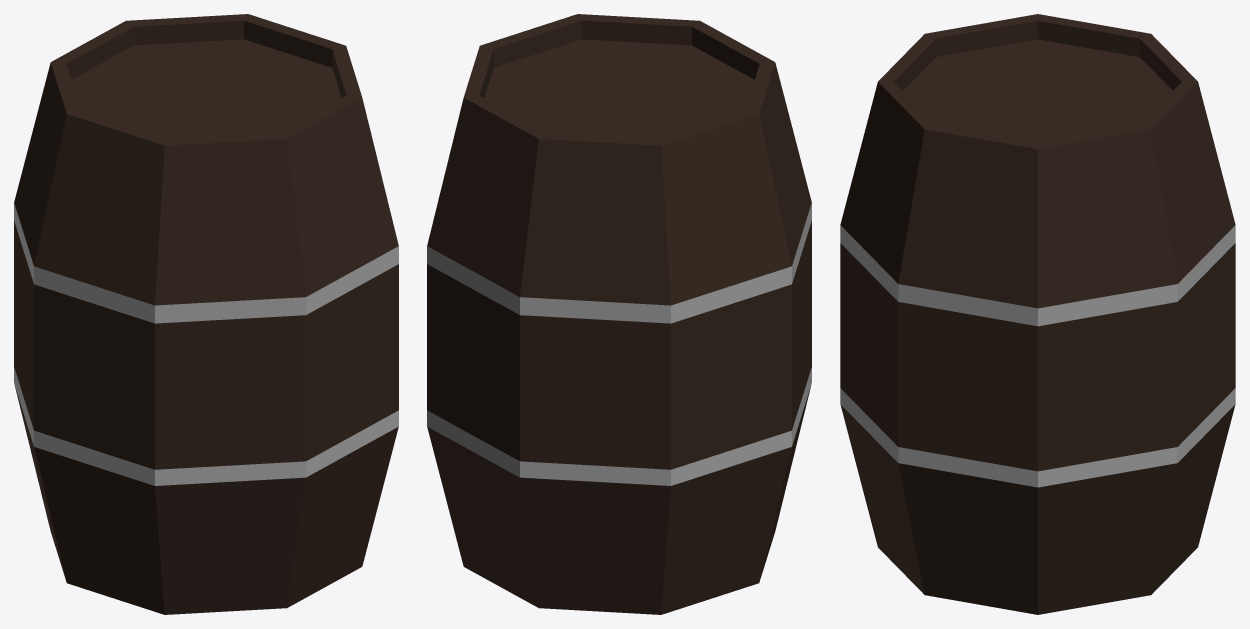
File: island_barrel.fbx
3 views of the same model, side by side, from view 1: azimuth 30°, elevation 25°; view 2: azimuth 150°, elevation 25°; view 3: azimuth 270°, elevation 25° (orthographic).
Visible parts, largest first — view 1: Cylinder.007; view 2: Cylinder.007; view 3: Cylinder.007.
Part boxes in pixels (x1,y1,x2,y2): Cylinder.007: [14, 14, 398, 614]; Cylinder.007: [427, 14, 811, 614]; Cylinder.007: [840, 14, 1235, 614].
Size of the model in its own units: 1.07 by 1.39 by 1.07.
